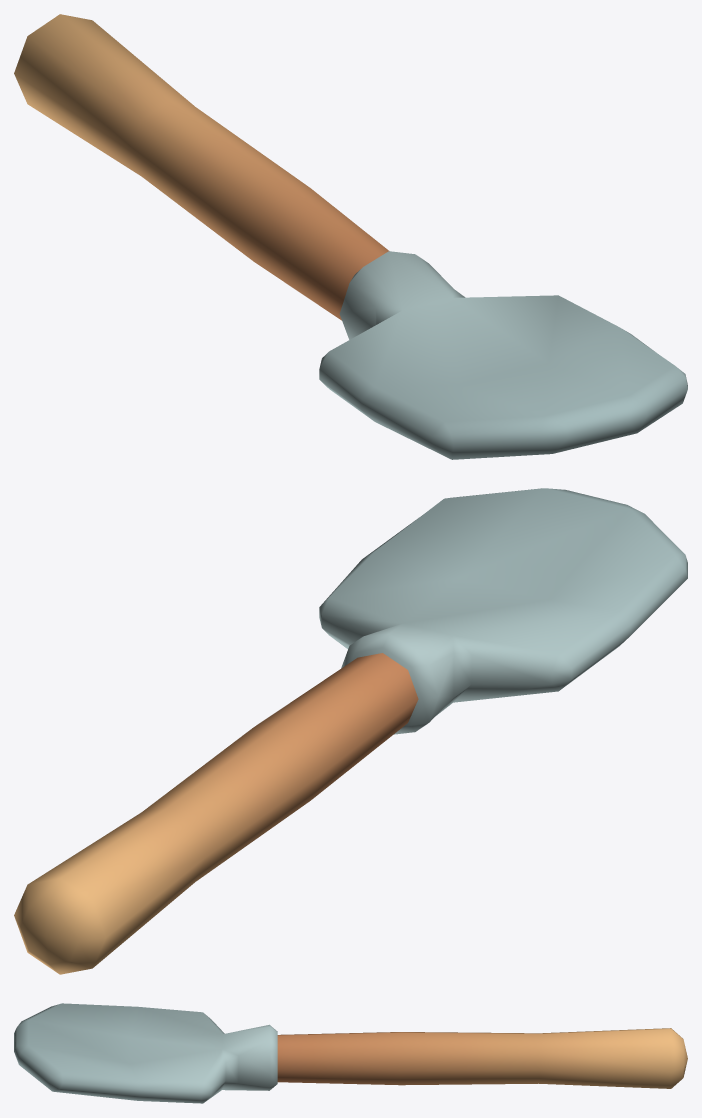
File: shovel.fbx
3 views of the same model, one above another, from view 1: azimuth 30°, elevation 25°; view 2: azimuth 150°, elevation 25°; view 3: azimuth 270°, elevation 25° (orthographic). The views are drawn at different scales.
Visible parts, largest first — view 1: shovel; view 2: shovel; view 3: shovel.
Part boxes in pixels (x1,y1,x2,y2): shovel: (14, 14, 687, 459); shovel: (14, 488, 687, 974); shovel: (14, 1003, 687, 1103).
Size of the model in its own units: 0.3713 by 0.1336 by 1.32.
1 material, 1 textured.
